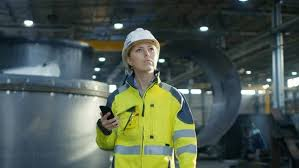Person_wearing_helmet: (118, 25, 161, 61)
